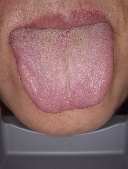tongue: (8, 63, 114, 116)
